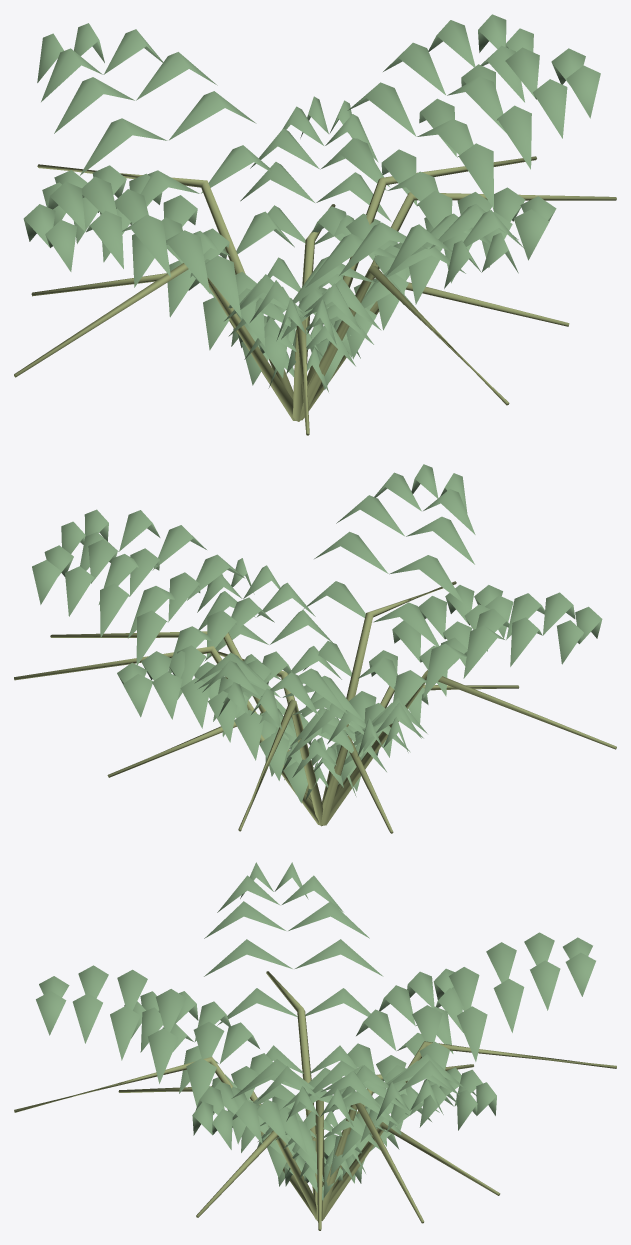
The model's file is SM_Fern_UV_0745.fbx.
The picture shows the model from 3 angles, top to bottom: view 1: azimuth 30°, elevation 25°; view 2: azimuth 150°, elevation 25°; view 3: azimuth 270°, elevation 25°; orthographic projection. The views are drawn at different scales.
Visible parts, largest first — view 1: SM_Fern_UV_0745; view 2: SM_Fern_UV_0745; view 3: SM_Fern_UV_0745.
Part boxes in pixels (x1,y1,x2,y2): SM_Fern_UV_0745: (14, 14, 616, 435); SM_Fern_UV_0745: (14, 464, 616, 833); SM_Fern_UV_0745: (14, 862, 616, 1230).
Bounding box in the file's own units: 226 × 224 × 102.
